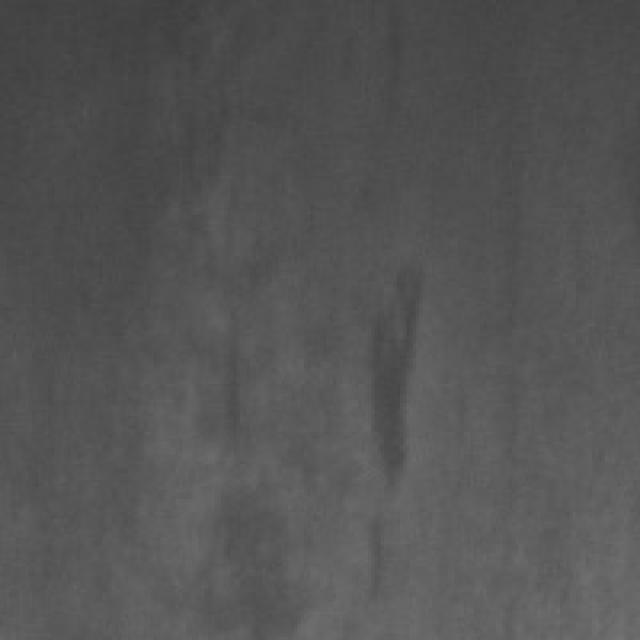inclusion: (346, 237, 442, 509), (192, 278, 262, 474)
